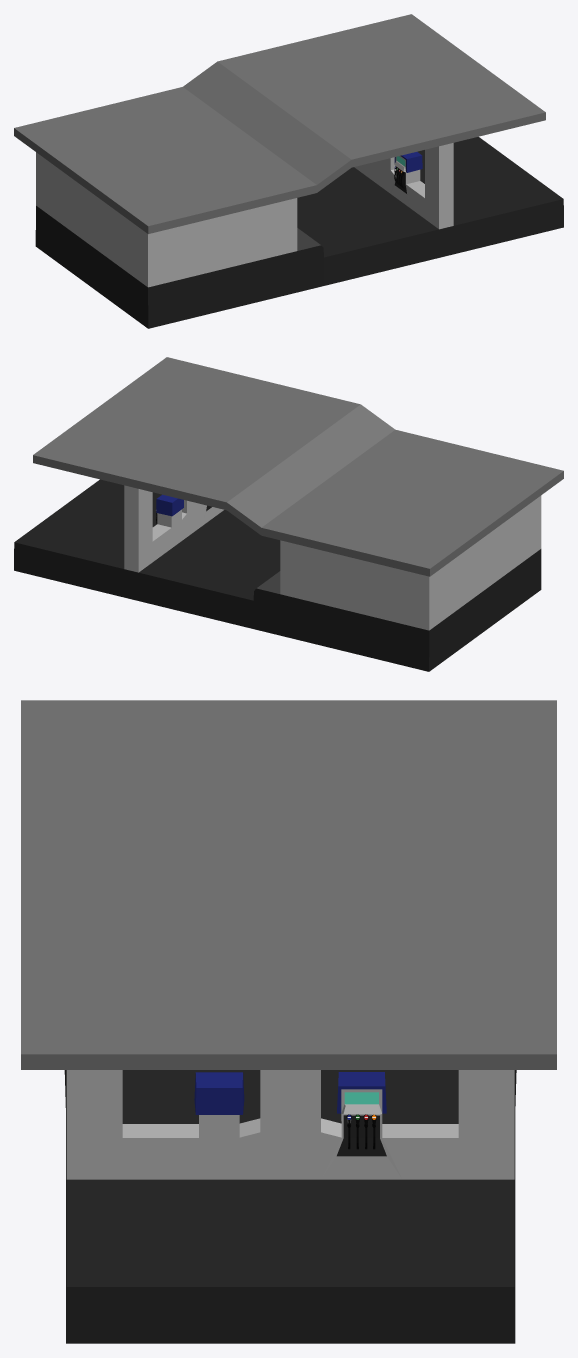
The model's file is gasStation.fbx.
The picture shows the model from 3 angles, top to bottom: view 1: azimuth 30°, elevation 25°; view 2: azimuth 150°, elevation 25°; view 3: azimuth 270°, elevation 25°; orthographic projection. The views are drawn at different scales.
Visible parts, largest first — view 1: GasStation; view 2: GasStation; view 3: GasStation.
Part boxes in pixels (x1,y1,x2,y2): GasStation: [14, 14, 563, 328]; GasStation: [14, 357, 563, 671]; GasStation: [21, 700, 556, 1343].
Size of the model in its own units: 59.51 by 17.38 by 32.4.
